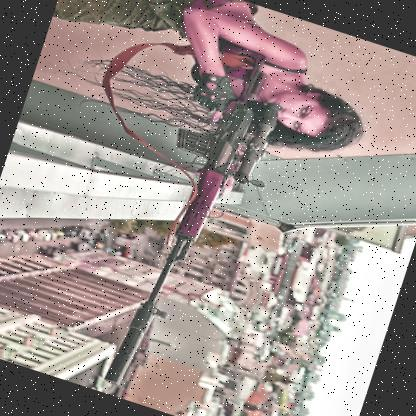rifle: (66, 28, 307, 416)
